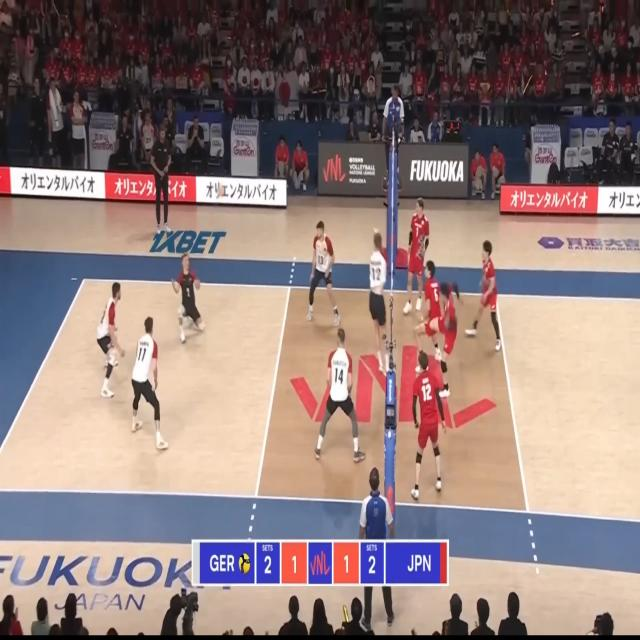ball: (218, 188, 224, 195)
